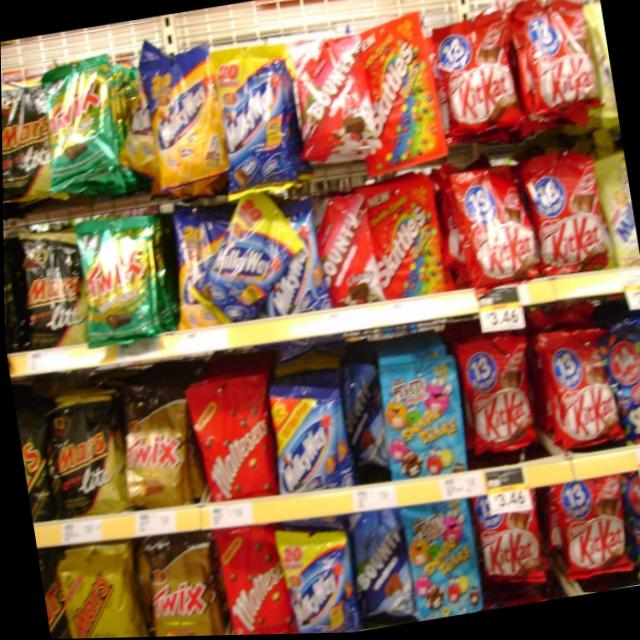q280: (443, 166, 545, 306), (524, 147, 613, 291), (503, 0, 598, 128), (434, 19, 528, 143), (535, 322, 620, 455), (457, 335, 538, 456), (547, 480, 635, 589), (471, 493, 549, 602)
